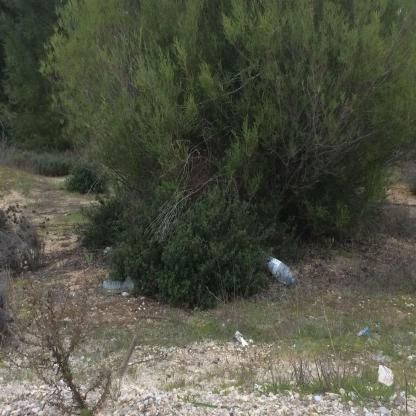plastik: (261, 255, 297, 285), (104, 279, 146, 297)
